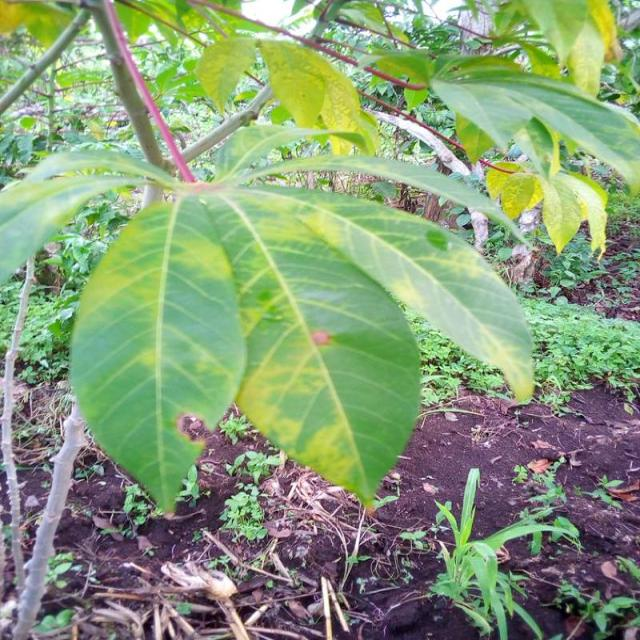cassava leaf: (67, 182, 535, 518), (67, 196, 247, 516)
